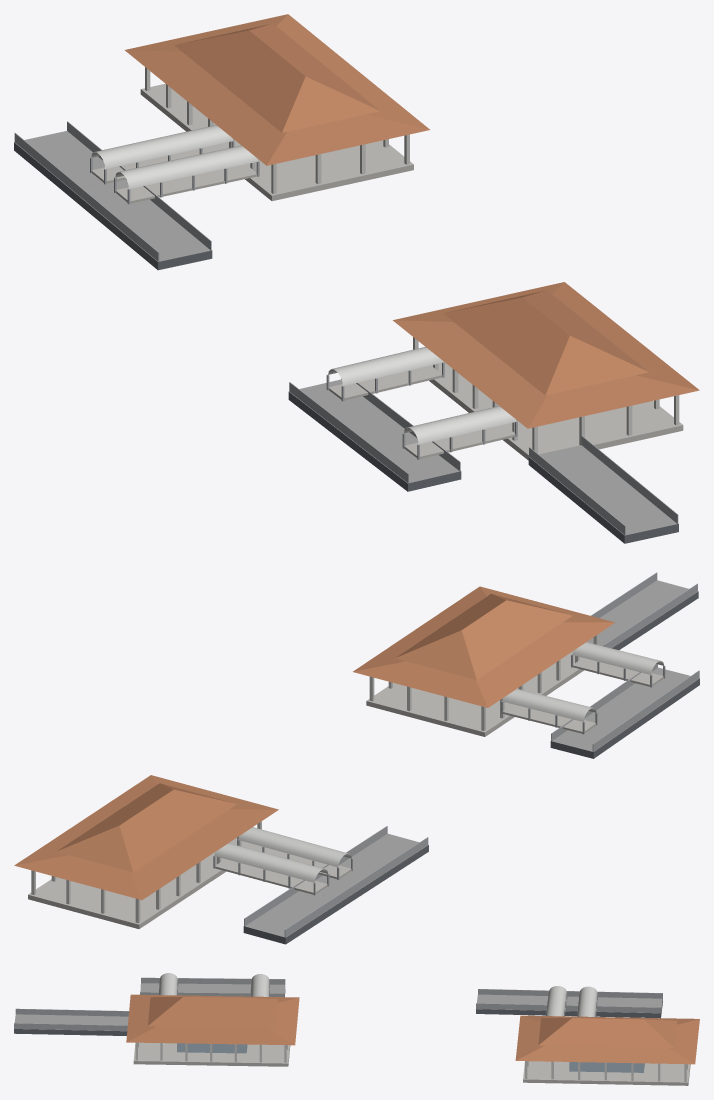
File: thachang.glb
3 renders of one model, top to bottom at view 1: azimuth 30°, elevation 25°; view 2: azimuth 150°, elevation 25°; view 3: azimuth 270°, elevation 25°, orthographic. The views are drawn at different scales.
Visible parts, largest first — view 1: thachang; view 2: thachang; view 3: thachang.
Part boxes in pixels (x1=…): thachang: x1=14, y1=14, x2=699, y2=543; thachang: x1=14, y1=572, x2=699, y2=944; thachang: x1=14, y1=973, x2=699, y2=1085.
Size of the model in its own units: 40.49 by 8.81 by 116.
